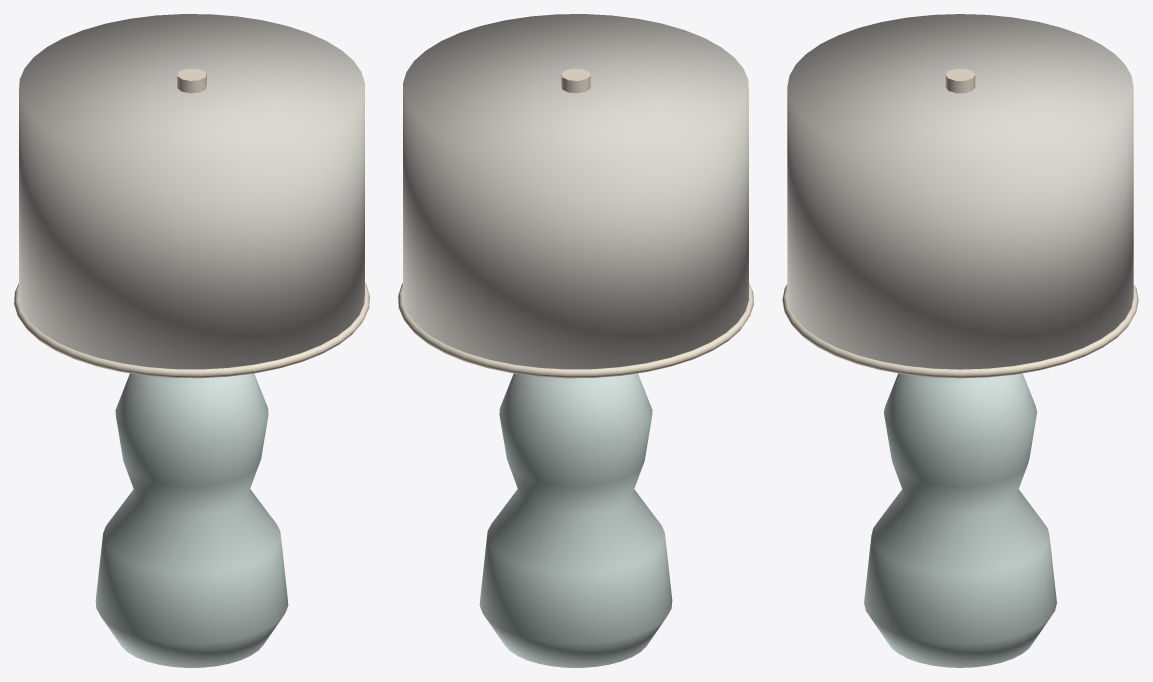
Rendered from sg_table_lamp.glb.
3 renders of one model, left to right at view 1: azimuth 30°, elevation 25°; view 2: azimuth 150°, elevation 25°; view 3: azimuth 270°, elevation 25°, orthographic.
Visible parts, largest first — view 1: shade, base, rimb, finial; view 2: shade, base, rimb, finial; view 3: shade, base, rimb, finial.
Part boxes in pixels (x1=…): shade: x1=19, y1=14, x2=364, y2=369; base: x1=95, y1=373, x2=288, y2=667; rimb: x1=14, y1=283, x2=369, y2=378; finial: x1=177, y1=68, x2=206, y2=93; shade: x1=403, y1=14, x2=748, y2=369; base: x1=479, y1=373, x2=672, y2=667; rimb: x1=398, y1=283, x2=753, y2=378; finial: x1=561, y1=68, x2=590, y2=93; shade: x1=787, y1=14, x2=1133, y2=369; base: x1=864, y1=373, x2=1056, y2=667; rimb: x1=782, y1=284, x2=1138, y2=378; finial: x1=945, y1=69, x2=975, y2=93.
Bounding box in the file's own units: 0.288 × 0.501 × 0.288.
